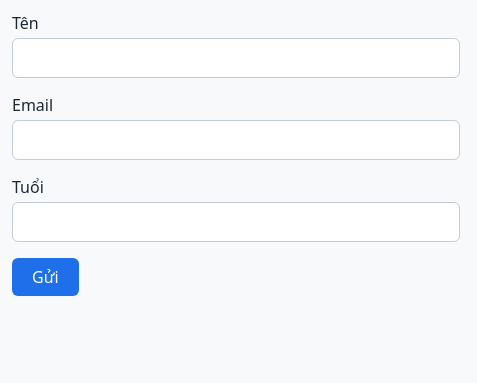
Test: SimpleForm › recomputes errors in the same render as the keystroke (no effect lag)
Click the button "Gửi": (45, 277) [12,258,79,296]
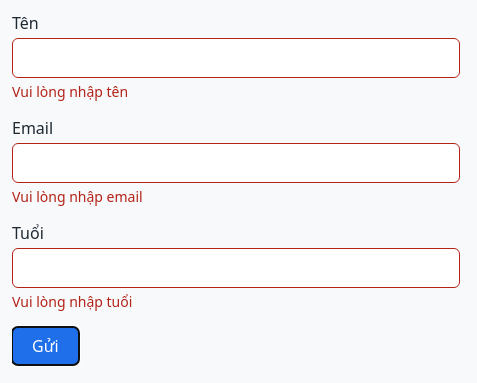
In the field labelled "Email": (236, 163) [12,143,460,183], type "ada"
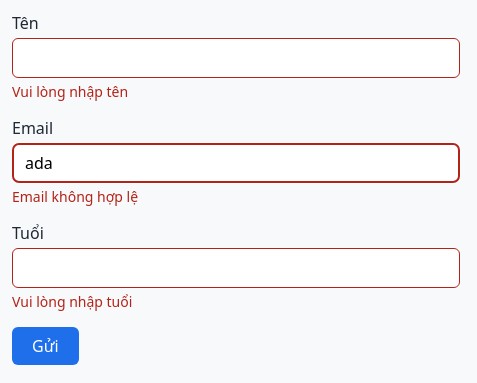
Result: the text "Email không hợp lệ" is shown at [12,187,138,206]
In the field labelled "Email": (236, 163) [12,143,460,183], type "@example.com"
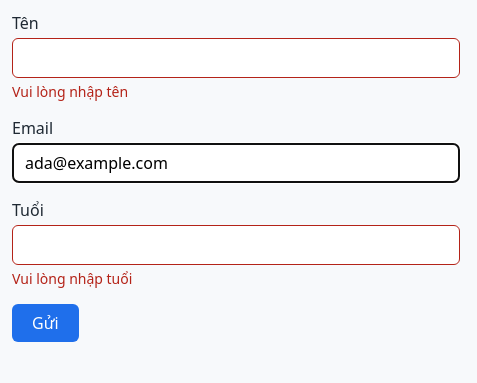
Expected: the text "Vui lòng nhập email" is not shown
Result: the text "Email không hợp lệ" is gone
